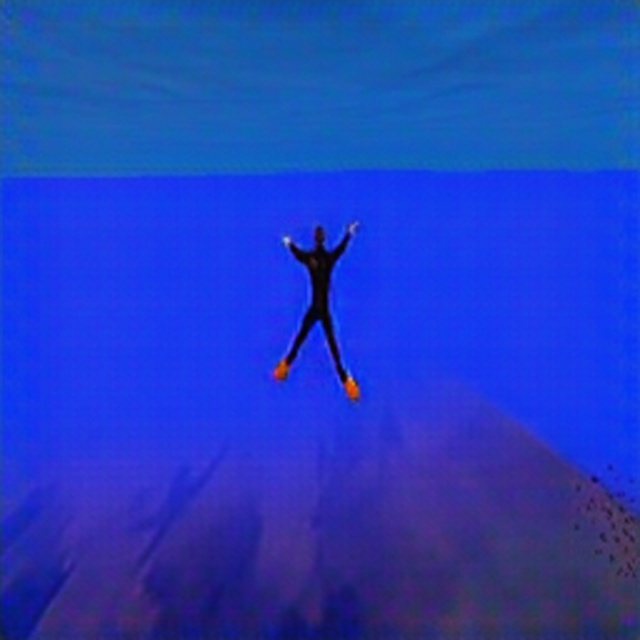diver: (272, 216, 363, 403)
